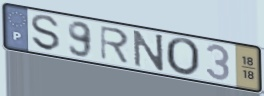3: (204, 42, 232, 83)
9: (66, 20, 94, 59)
N: (131, 28, 166, 72)
O: (164, 37, 202, 79)
R: (98, 25, 131, 66)
S: (29, 13, 62, 53)
